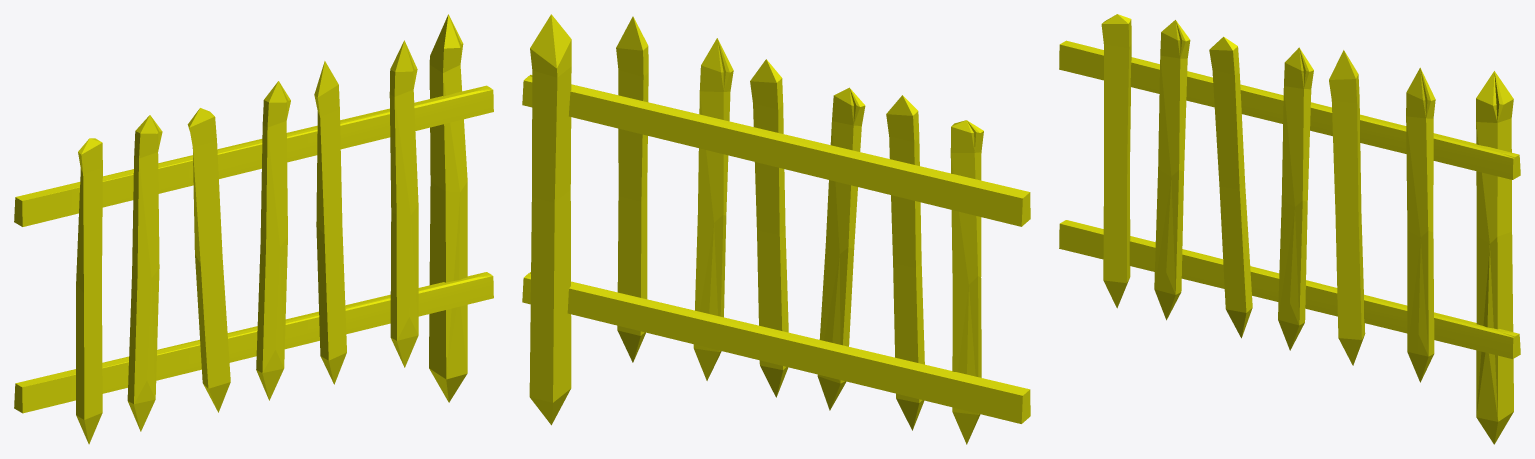
Rendered from PT_Modular_Fence_Wood_02.glb.
3 renders of one model, left to right at view 1: azimuth 30°, elevation 25°; view 2: azimuth 150°, elevation 25°; view 3: azimuth 330°, elevation 25°, orthographic. The views are drawn at different scales.
Parts seen in each view (by area): view 1: PT_Modular_Fence_Wood_02; view 2: PT_Modular_Fence_Wood_02; view 3: PT_Modular_Fence_Wood_02.
Boxes of the visible parts, x1,y1,x2,y2 form: PT_Modular_Fence_Wood_02: (14, 14, 493, 444); PT_Modular_Fence_Wood_02: (522, 14, 1030, 444); PT_Modular_Fence_Wood_02: (1059, 14, 1520, 444).
Bounding box in the file's own units: 2.2 × 1.74 × 0.245.
Materials: 1 (1 with a texture image).
